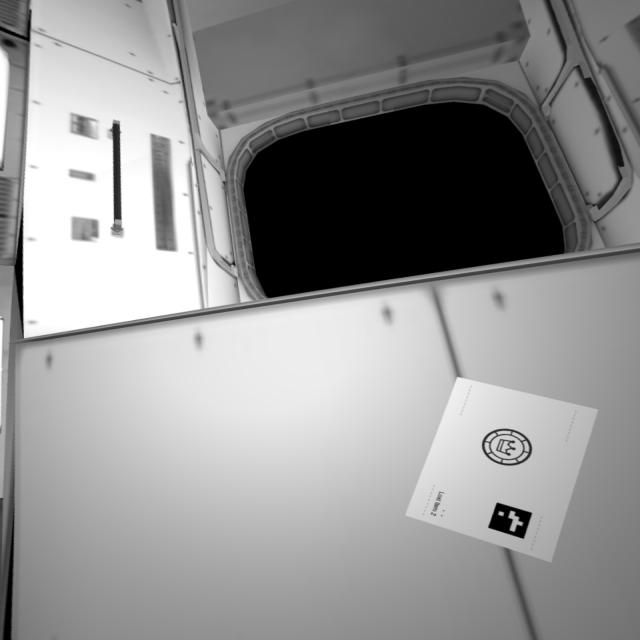coin: (471, 429, 546, 470)
